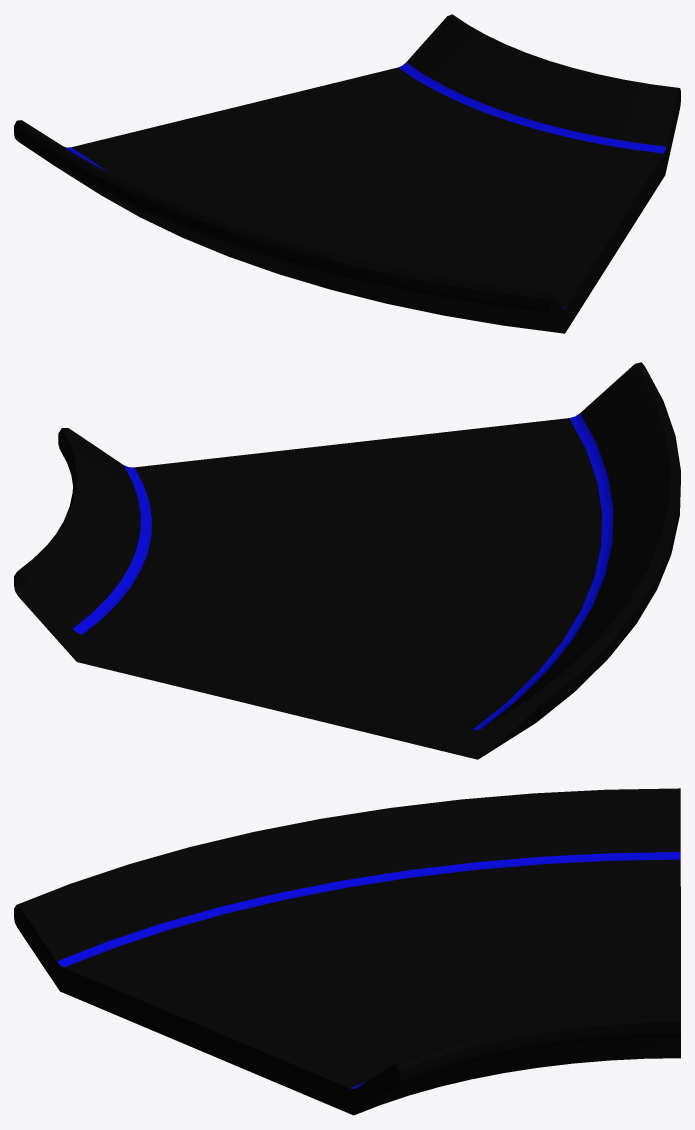
Rendered from 45TurnRoad_SM.fbx.
3 views of the same model, one above another, from view 1: azimuth 30°, elevation 25°; view 2: azimuth 150°, elevation 25°; view 3: azimuth 270°, elevation 25° (orthographic). The views are drawn at different scales.
Visible parts, largest first — view 1: SM_45_Turn; view 2: SM_45_Turn; view 3: SM_45_Turn.
Part boxes in pixels (box(x1,y1,x2,y2)): SM_45_Turn: box(14, 14, 680, 333); SM_45_Turn: box(14, 362, 680, 759); SM_45_Turn: box(14, 788, 680, 1115).
Size of the model in its own units: 6 by 0.6815 by 6.04.
